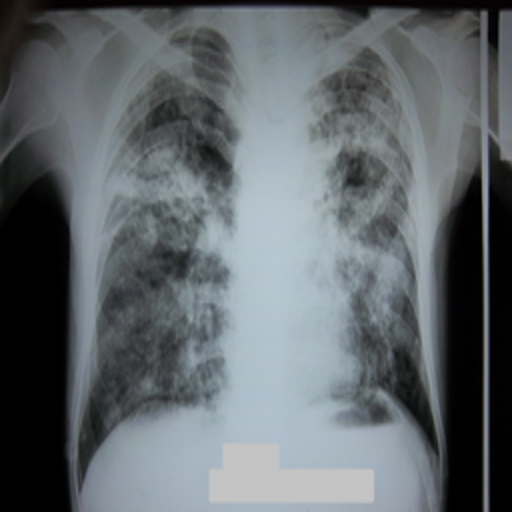TB: (323, 38, 414, 365), (113, 145, 217, 399)
